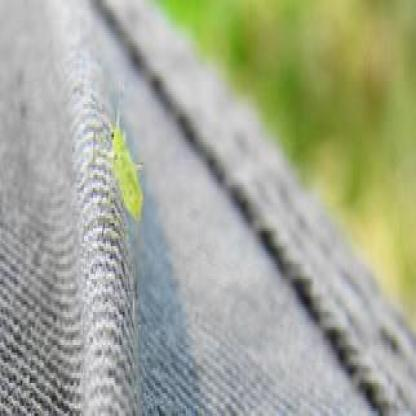aphid: (98, 95, 145, 220)
